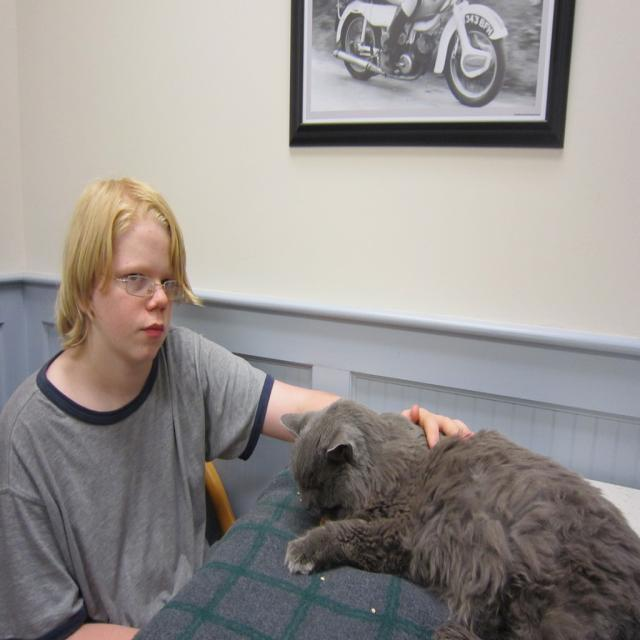Cat: (277, 397, 638, 638)
